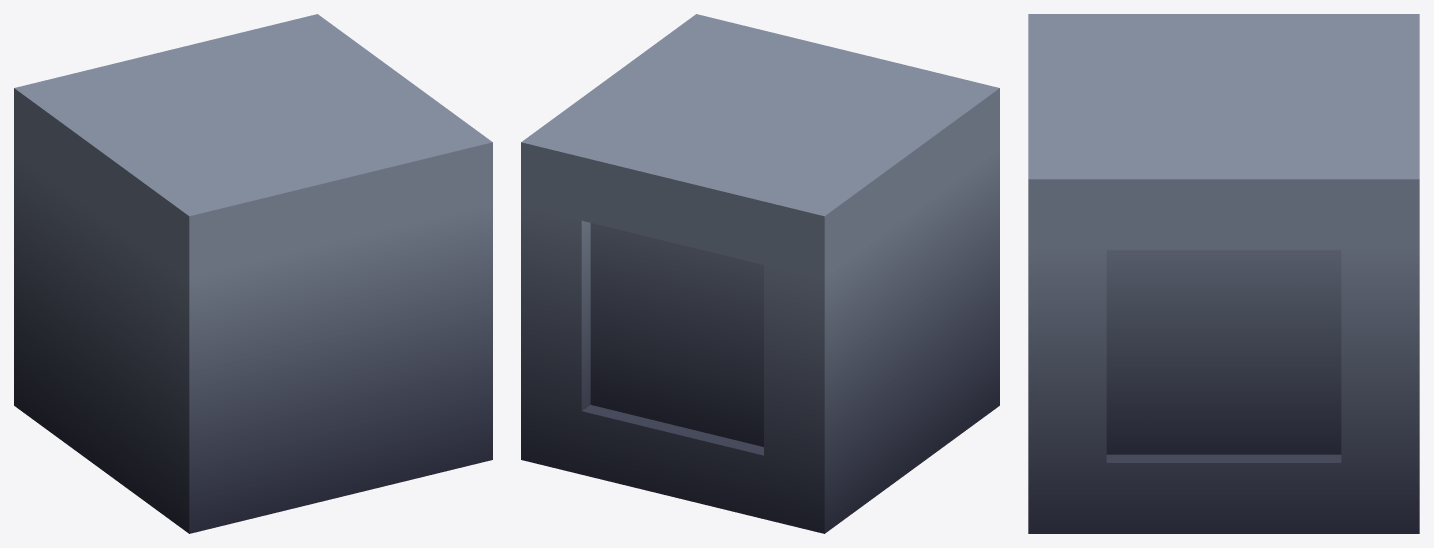
3 views of the same model, side by side, from view 1: azimuth 30°, elevation 25°; view 2: azimuth 150°, elevation 25°; view 3: azimuth 270°, elevation 25° (orthographic). The views are drawn at different scales.
Parts seen in each view (by area): view 1: Cube_intacte; view 2: Cube_intacte; view 3: Cube_intacte.
Boxes of the visible parts, <box> form: Cube_intacte: <box>14,14,492,533</box>; Cube_intacte: <box>521,14,999,533</box>; Cube_intacte: <box>1028,14,1419,533</box>.
Bounding box in the file's own units: 100 × 100 × 100.
